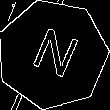N_SW: (24, 24, 81, 85)
